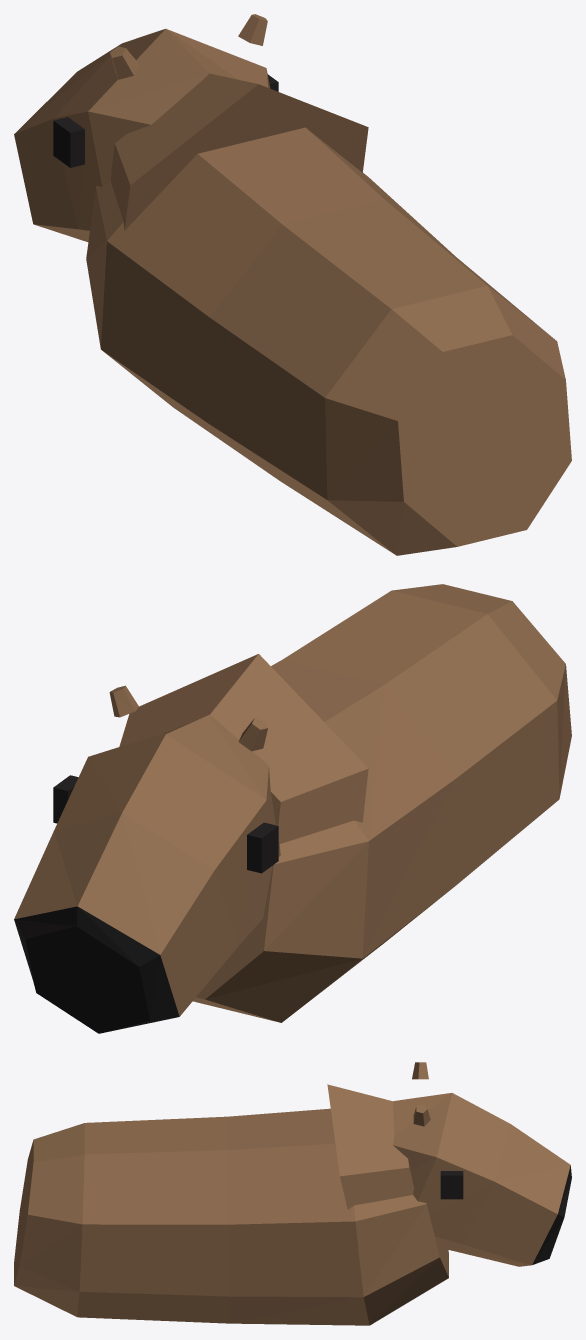
Rendered from animal_capybara.obj.
3 views of the same model, one above another, from view 1: azimuth 30°, elevation 25°; view 2: azimuth 150°, elevation 25°; view 3: azimuth 270°, elevation 25° (orthographic). The views are drawn at different scales.
Parts seen in each view (by area): view 1: animal_capybara; view 2: animal_capybara; view 3: animal_capybara.
Boxes of the visible parts, x1,y1,x2,y2 form: animal_capybara: [14, 14, 571, 555]; animal_capybara: [14, 584, 571, 1033]; animal_capybara: [14, 1062, 571, 1325].
Bounding box in the file's own units: 0.337 × 0.4115 × 0.9265.
